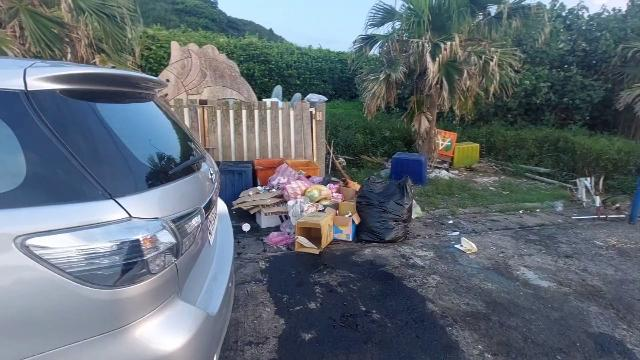pollute: (220, 150, 428, 255), (572, 170, 625, 221), (433, 128, 479, 170), (451, 238, 478, 254)
